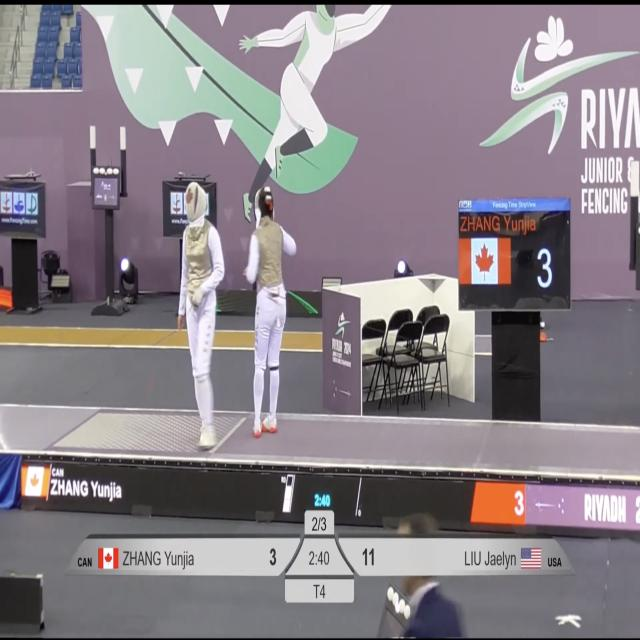fencer: (241, 184, 294, 444), (176, 180, 223, 451)
overlayLeft: (67, 532, 252, 578)
overlayRight: (387, 538, 576, 572)
scoreLeft: (256, 537, 304, 577)
scoreRight: (335, 540, 383, 575)
